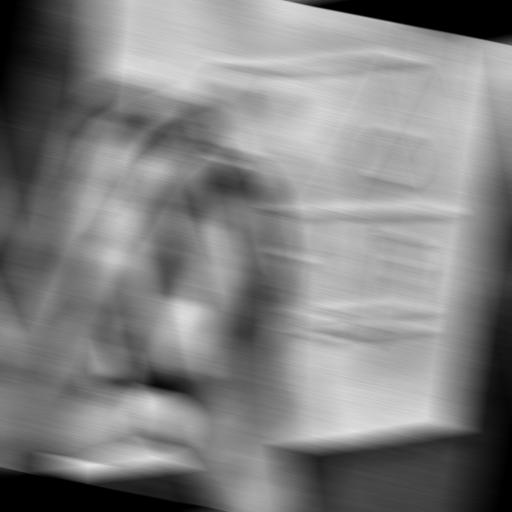bottom_left: (441, 414, 466, 434)
bottom_right: (48, 467, 70, 481)
house: (106, 0, 489, 399)
